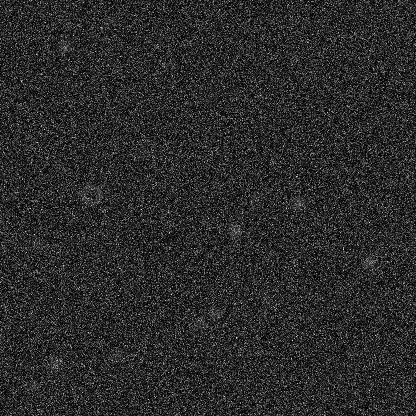Ring: (136, 138, 160, 162), (190, 80, 214, 104), (81, 268, 105, 292), (79, 182, 103, 206)
Spot: (105, 12, 121, 28), (24, 377, 40, 393), (248, 189, 264, 205), (208, 305, 224, 321), (47, 357, 63, 373), (290, 193, 306, 209), (256, 288, 272, 304), (56, 38, 72, 54), (226, 223, 242, 239), (191, 314, 207, 330), (360, 253, 376, 269), (109, 346, 125, 362), (28, 236, 44, 252), (50, 158, 66, 174)
